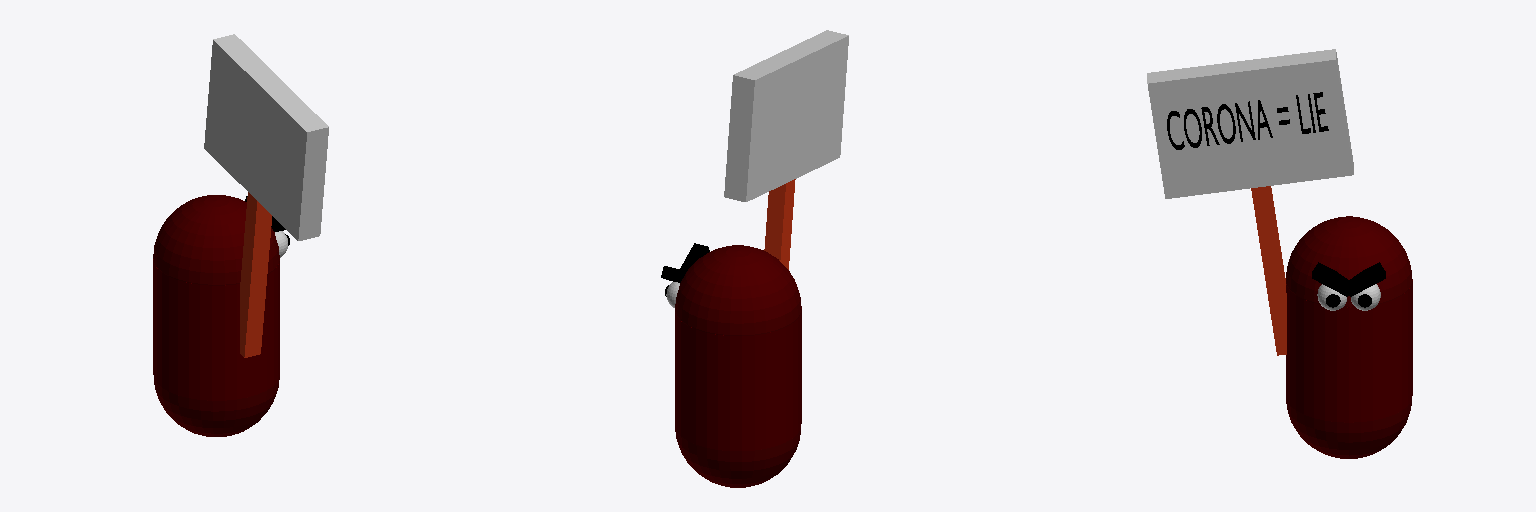
The model's file is antimask_bean.obj.
3 views of the same model, side by side, from view 1: azimuth 30°, elevation 25°; view 2: azimuth 150°, elevation 25°; view 3: azimuth 270°, elevation 25° (orthographic).
Parts seen in each view (by area): view 1: Cube.003, Cylinder, Sphere, Cube.002_Cube, Sphere.001; view 2: Cube.003, Cylinder, Sphere, Sphere.001, Cube.002_Cube; view 3: Cube.003, Cylinder, Sphere, Sphere.001, Cube.002_Cube, Corona_CORONA_=_LIE, Cube_Cube.001, Cube.001_Cube.002.
Boxes of the visible parts, x1=… form: Cube.003: x1=204, y1=34, x2=328, y2=240; Cylinder: x1=153, y1=259, x2=279, y2=400; Sphere: x1=153, y1=195, x2=279, y2=285; Cube.002_Cube: x1=240, y1=192, x2=271, y2=357; Sphere.001: x1=154, y1=377, x2=279, y2=436; Cube.003: x1=724, y1=30, x2=848, y2=201; Cylinder: x1=675, y1=308, x2=801, y2=450; Sphere: x1=675, y1=245, x2=801, y2=335; Sphere.001: x1=675, y1=428, x2=800, y2=487; Cube.002_Cube: x1=764, y1=179, x2=795, y2=269; Cube.003: x1=1147, y1=49, x2=1353, y2=198; Cylinder: x1=1286, y1=280, x2=1412, y2=422; Sphere: x1=1286, y1=216, x2=1412, y2=307; Sphere.001: x1=1286, y1=400, x2=1411, y2=458; Cube.002_Cube: x1=1251, y1=186, x2=1286, y2=355; Corona_CORONA_=_LIE: x1=1167, y1=92, x2=1328, y2=149; Cube_Cube.001: x1=1344, y1=262, x2=1385, y2=296; Cube.001_Cube.002: x1=1312, y1=262, x2=1353, y2=296.
Size of the model in its own units: 4.35 by 13.89 by 8.35.